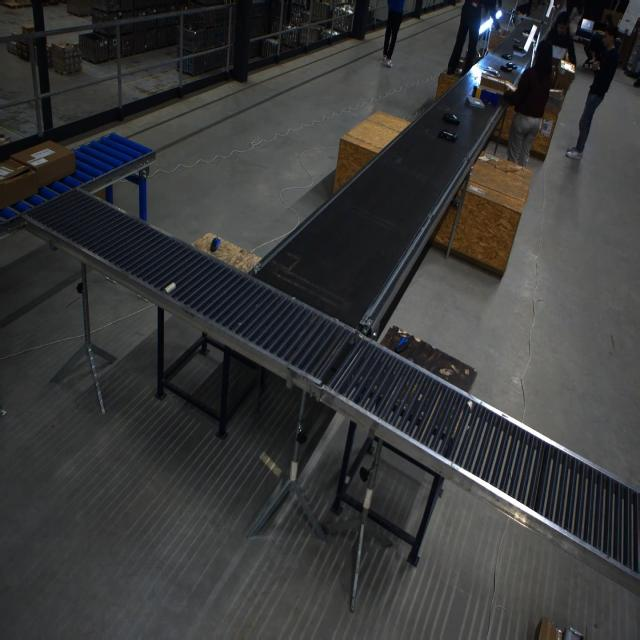box: (10, 139, 75, 191), (0, 156, 38, 211), (548, 58, 575, 96), (476, 70, 513, 95), (543, 89, 564, 116)
product: (437, 129, 457, 142), (466, 96, 486, 109), (442, 112, 460, 125), (511, 48, 528, 60), (500, 63, 517, 72), (500, 53, 512, 60), (512, 39, 521, 48)
